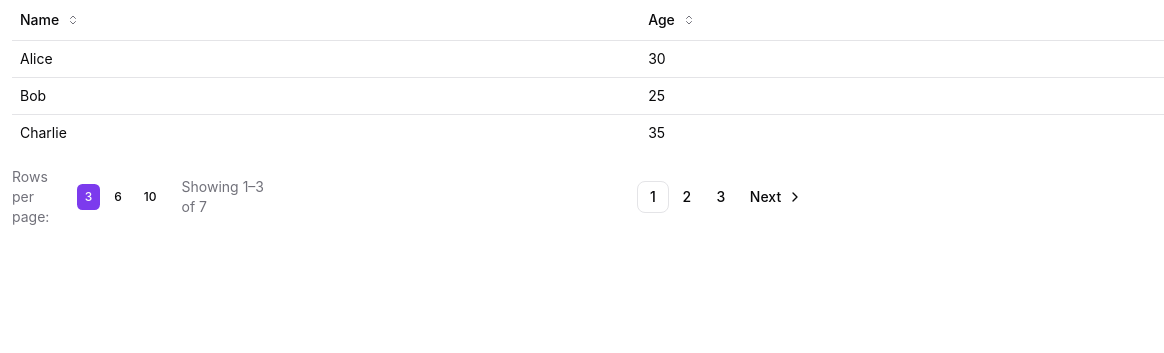
Test case: DataTable › changes page size
This screenshot has width=1164, height=353.
Expected: the text "Showing 1–3 of 7" is shown, [182, 176, 267, 216]
Click the button "6". click: point(118, 196)
box: [105, 182, 131, 210]
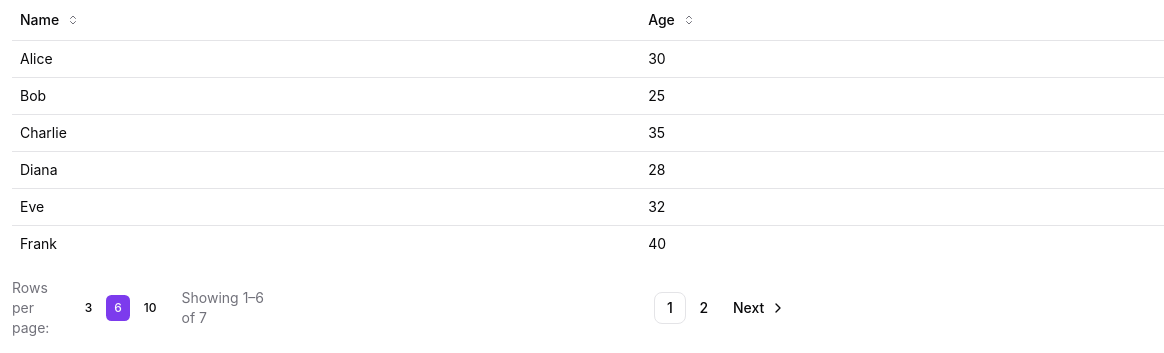
Now the text "Showing 1–6 of 7" is shown, box [182, 288, 267, 328]
